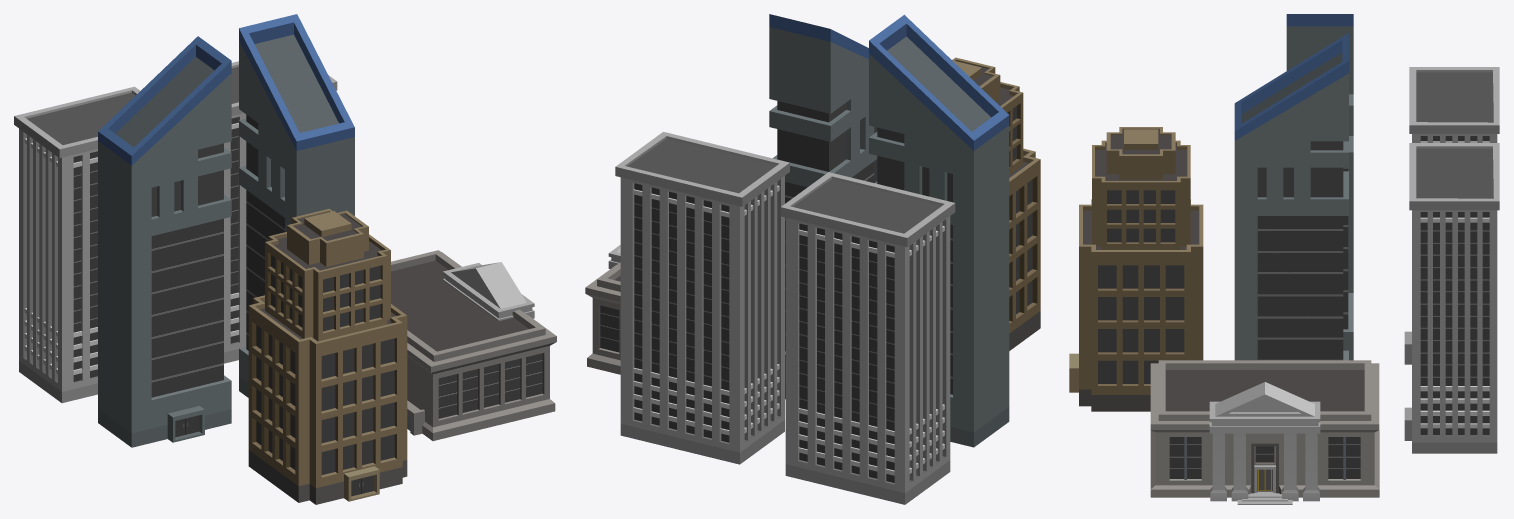
File: BusinessDistrict.fbx
3 views of the same model, side by side, from view 1: azimuth 30°, elevation 25°; view 2: azimuth 150°, elevation 25°; view 3: azimuth 270°, elevation 25° (orthographic). The views are drawn at different scales.
Parts seen in each view (by area): view 1: SC_Bld_25_Bright; view 2: SC_Bld_25_Bright; view 3: SC_Bld_25_Bright.
Part boxes in pixels (x1,y1,x2,y2): SC_Bld_25_Bright: [14, 14, 556, 504]; SC_Bld_25_Bright: [585, 14, 1040, 504]; SC_Bld_25_Bright: [1069, 14, 1499, 504].
Bounding box in the file's own units: 59.4 × 54.16 × 58.68.
